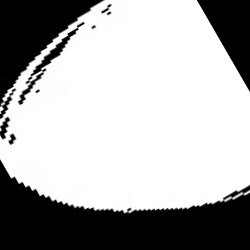spot: (0, 1, 247, 213)
